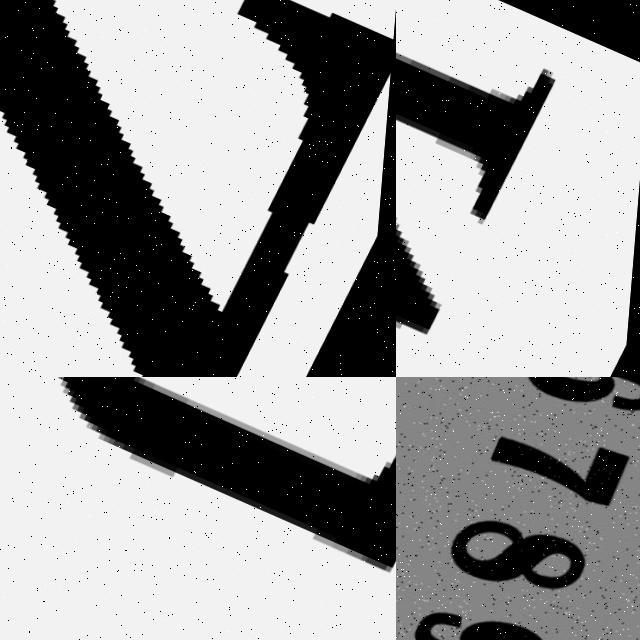6: (503, 377, 640, 452)
7: (452, 386, 640, 544)
8: (427, 479, 638, 640)
9: (396, 567, 595, 640)
J: (0, 377, 396, 640)
W: (396, 0, 595, 377)
Z: (0, 0, 396, 377)
